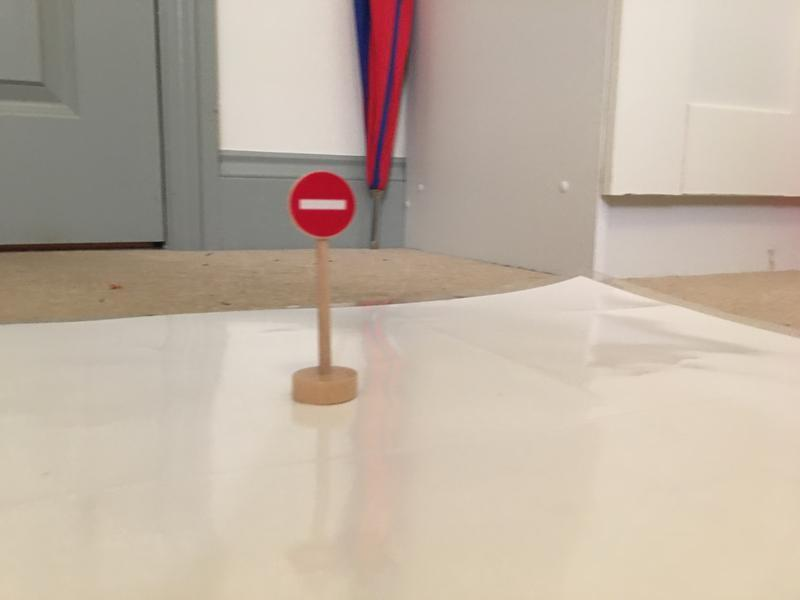Traffic_Sign_No_Entry: (291, 172, 353, 235)
